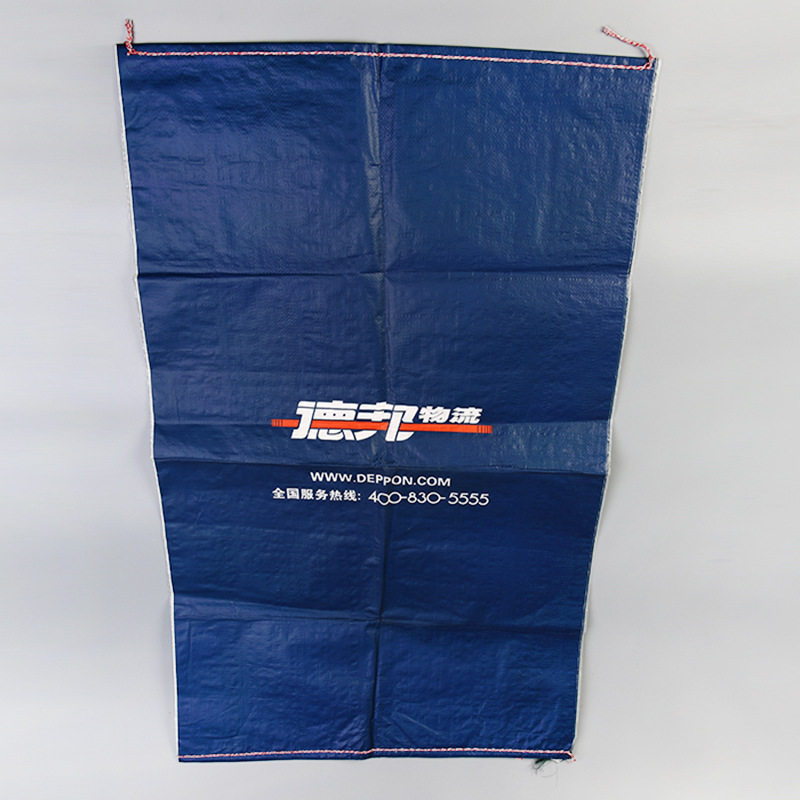塑料袋: (118, 40, 654, 760)
